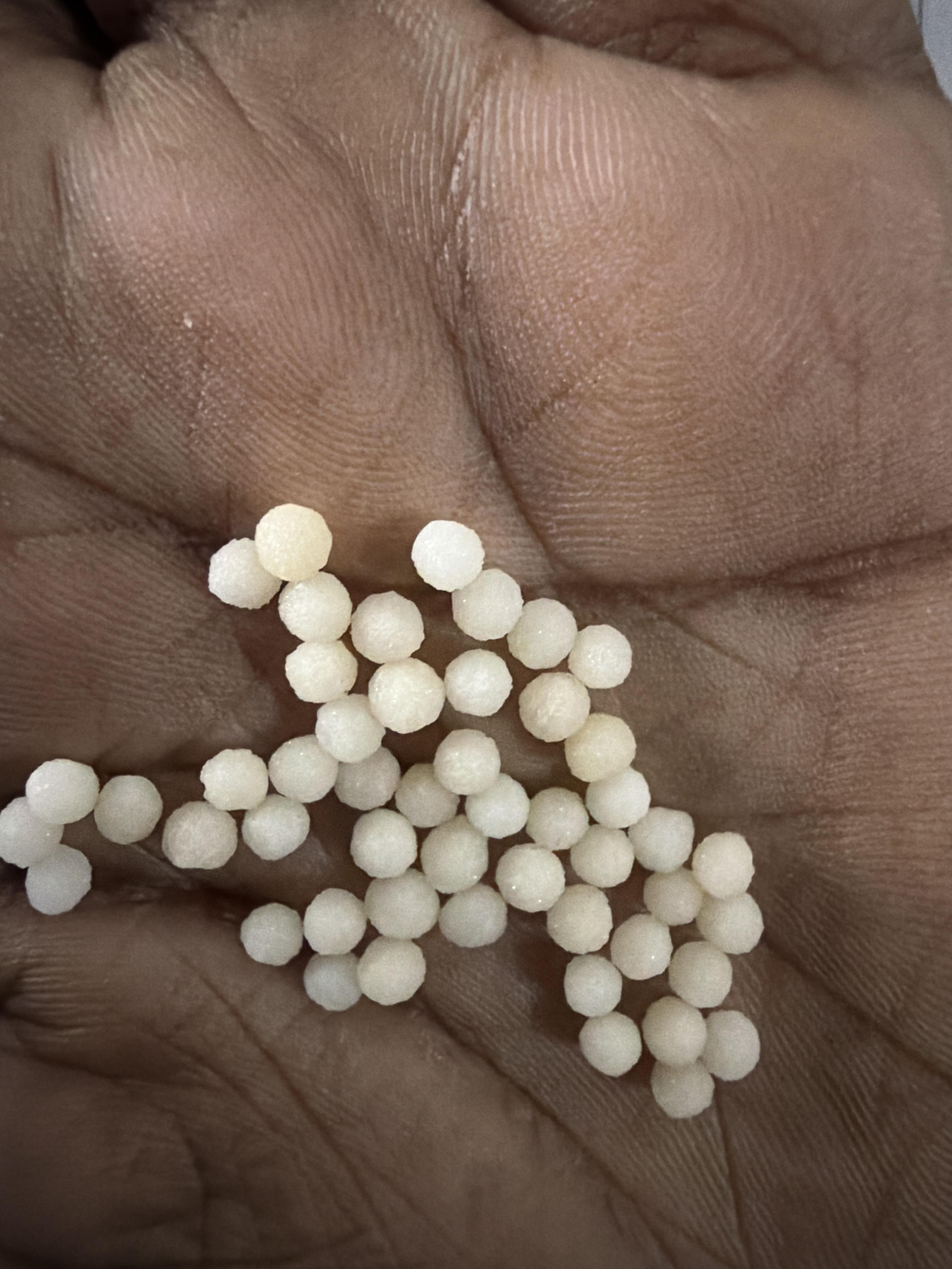pill: (533, 609, 676, 865), (254, 504, 332, 581), (368, 657, 445, 734), (350, 591, 424, 663), (364, 869, 439, 939), (420, 816, 488, 893), (411, 520, 484, 591), (278, 572, 352, 642), (208, 539, 281, 609), (162, 801, 237, 869), (452, 569, 523, 640), (564, 713, 636, 783), (518, 672, 590, 742), (507, 598, 577, 669), (25, 759, 99, 825), (93, 775, 162, 844), (315, 694, 384, 763), (495, 844, 565, 912), (268, 735, 338, 803), (444, 649, 513, 717), (285, 640, 358, 704), (358, 936, 425, 1005), (350, 809, 417, 877), (241, 794, 310, 860), (547, 884, 612, 954), (26, 845, 91, 915), (642, 996, 706, 1066), (433, 729, 500, 795), (439, 883, 507, 948), (0, 797, 63, 867), (334, 746, 400, 811), (628, 807, 694, 872), (303, 887, 366, 955), (465, 773, 530, 838), (394, 763, 459, 828), (669, 941, 732, 1008), (691, 832, 754, 898), (696, 892, 763, 954), (701, 1010, 760, 1080), (525, 787, 589, 851), (579, 1012, 642, 1077), (569, 624, 632, 689), (610, 914, 672, 980), (200, 749, 267, 810), (570, 825, 634, 888), (240, 902, 303, 965), (585, 767, 650, 828), (564, 954, 622, 1017), (303, 953, 362, 1012), (651, 1062, 712, 1119), (644, 868, 704, 925)
